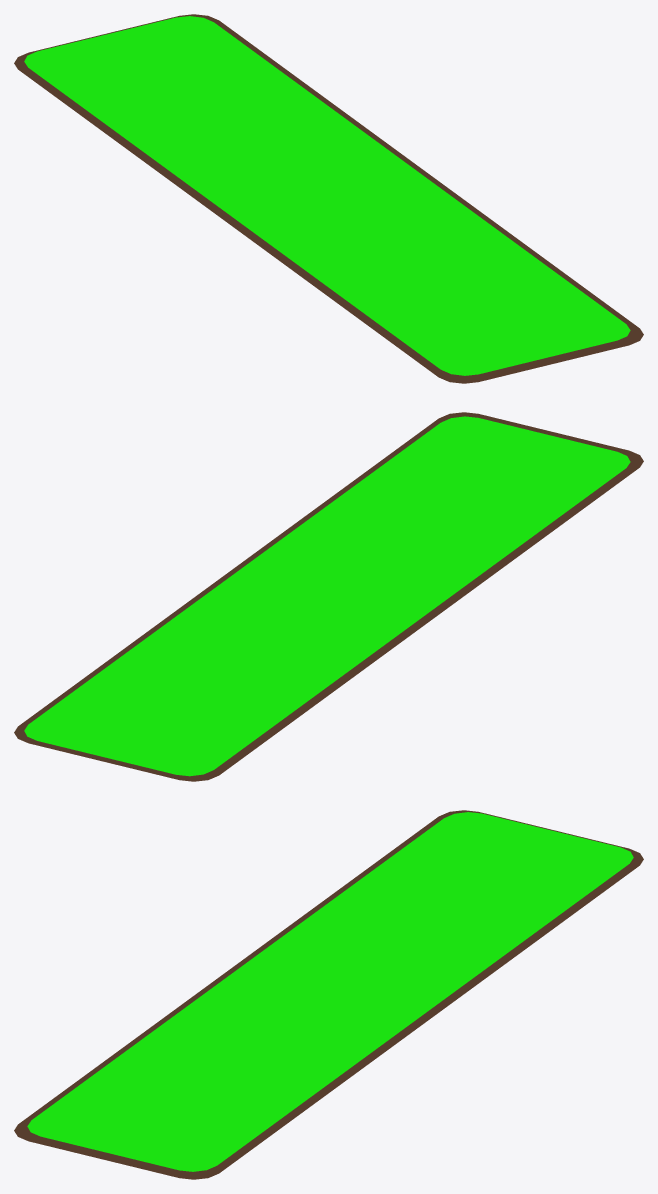
File: buy_long.fbx
3 renders of one model, top to bottom at view 1: azimuth 30°, elevation 25°; view 2: azimuth 150°, elevation 25°; view 3: azimuth 330°, elevation 25°, orthographic.
Visible parts, largest first — view 1: buy_long_green, buy_long; view 2: buy_long_green, buy_long; view 3: buy_long_green, buy_long.
Boxes of the visible parts, left/top/right/bottom form: buy_long_green: left=24, top=16, right=630, bottom=375; buy_long: left=14, top=14, right=643, bottom=383; buy_long_green: left=24, top=416, right=630, bottom=776; buy_long: left=14, top=412, right=643, bottom=781; buy_long_green: left=27, top=812, right=633, bottom=1171; buy_long: left=14, top=810, right=643, bottom=1179.
Size of the model in its own units: 115 by 1 by 445.
Materials: 2 (2 with a texture image).
